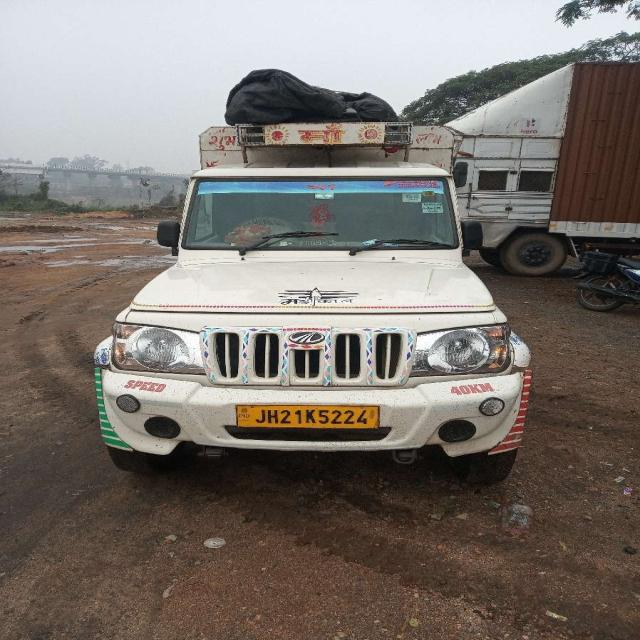light_vehicle: (92, 171, 527, 457)
